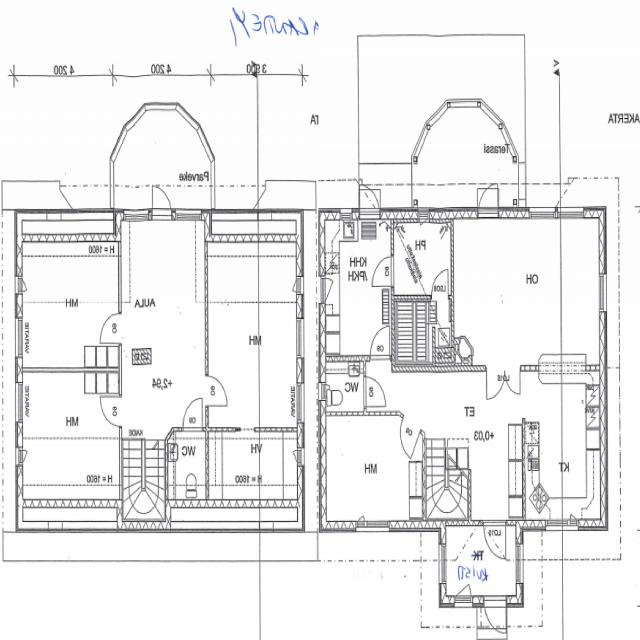door: (393, 415, 421, 459), (484, 595, 506, 640), (483, 520, 506, 560), (360, 176, 380, 218), (478, 178, 498, 217), (153, 180, 171, 220), (204, 376, 227, 406), (372, 256, 394, 286), (364, 377, 386, 406), (100, 396, 121, 426), (183, 398, 202, 431), (487, 365, 505, 399), (371, 327, 389, 361), (100, 314, 121, 343), (432, 268, 448, 300), (506, 365, 520, 394)
